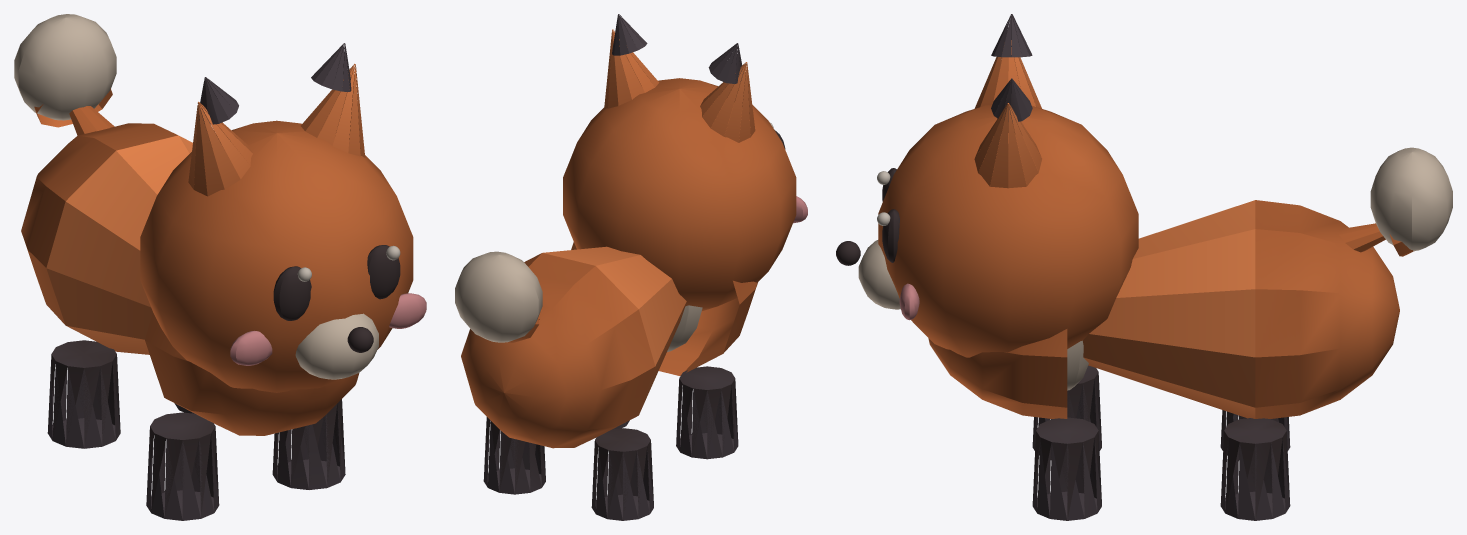
Rendered from pba3b3f7d.glb.
The picture shows the model from 3 angles, left to right: view 1: azimuth 30°, elevation 25°; view 2: azimuth 150°, elevation 25°; view 3: azimuth 270°, elevation 25°; orthographic projection. The views are drawn at different scales.
Parts seen in each view (by area): view 1: pet_pba3b3f7d; view 2: pet_pba3b3f7d; view 3: pet_pba3b3f7d.
Boxes of the visible parts, bbox=[...] form: pet_pba3b3f7d: bbox=[14, 14, 426, 520]; pet_pba3b3f7d: bbox=[455, 14, 807, 520]; pet_pba3b3f7d: bbox=[836, 14, 1452, 520].
Size of the model in its own units: 0.3742 by 0.683 by 0.8868.
